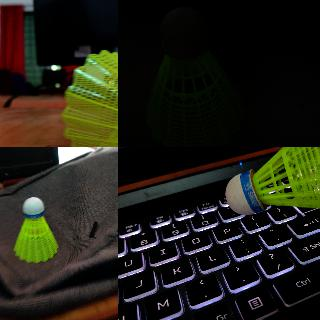shuttlecock: (145, 8, 246, 146), (225, 147, 319, 214), (62, 48, 117, 146), (12, 197, 58, 261)
